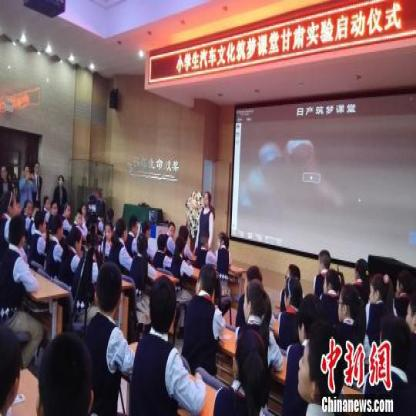head: (298, 324, 348, 410), (40, 330, 92, 410), (374, 308, 410, 379), (232, 323, 266, 397), (150, 270, 176, 336), (294, 289, 324, 342), (241, 279, 271, 331), (95, 260, 122, 317), (338, 283, 362, 331), (365, 270, 393, 306), (194, 260, 217, 302), (320, 267, 342, 300), (281, 258, 301, 292), (283, 274, 299, 310), (10, 215, 25, 248), (352, 255, 368, 283), (316, 244, 331, 272), (67, 224, 82, 250), (126, 210, 139, 236), (3, 188, 16, 214), (32, 209, 45, 234), (197, 226, 211, 249), (214, 227, 227, 251), (50, 218, 63, 242), (154, 230, 167, 253), (114, 215, 127, 238), (134, 233, 147, 253), (173, 234, 184, 257), (176, 222, 188, 241), (140, 219, 152, 237), (73, 203, 83, 223), (22, 196, 32, 215), (165, 218, 174, 238), (102, 219, 111, 239), (201, 188, 210, 206), (61, 197, 70, 215), (105, 205, 113, 223), (42, 194, 50, 212), (49, 197, 56, 215), (32, 156, 38, 177), (79, 197, 87, 212), (22, 162, 30, 176), (57, 172, 63, 184)
